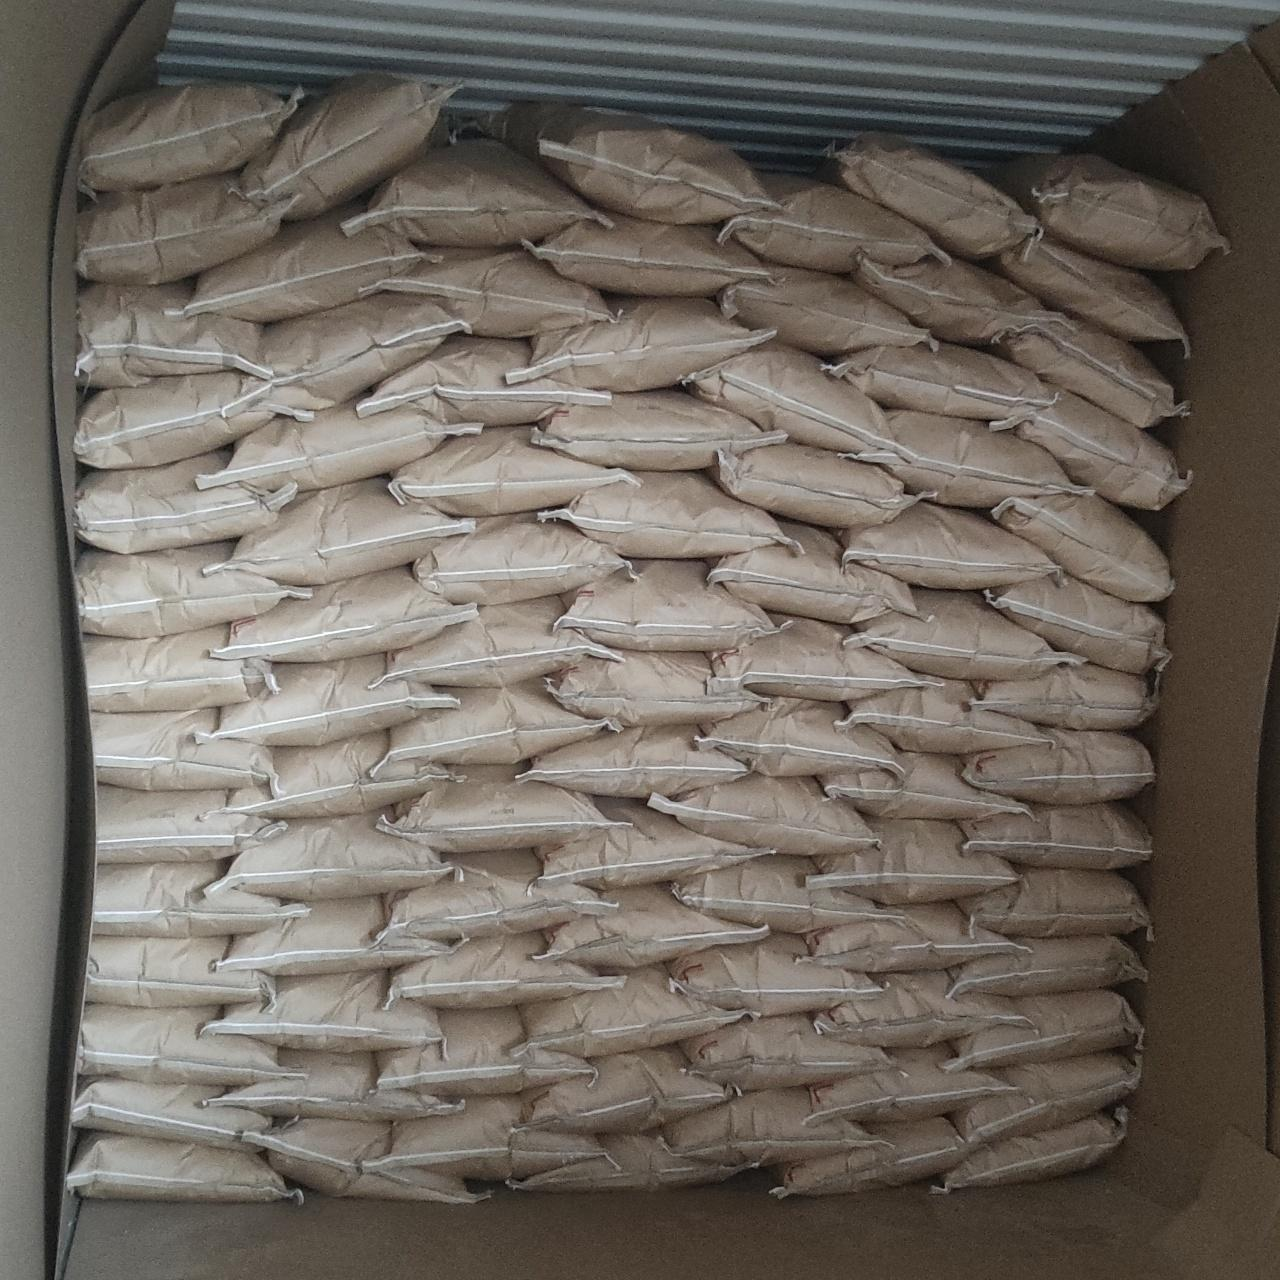sack: (488, 106, 774, 222), (240, 76, 452, 220), (226, 296, 468, 414), (176, 208, 430, 320), (208, 478, 474, 582), (990, 154, 1226, 270), (346, 140, 602, 246), (818, 136, 1036, 258), (200, 402, 482, 492), (508, 298, 772, 390), (216, 568, 476, 660), (992, 390, 1190, 510), (78, 82, 298, 190), (684, 342, 896, 454), (74, 371, 313, 468), (850, 410, 1086, 506), (994, 234, 1186, 352), (78, 174, 280, 284), (202, 654, 454, 742), (76, 542, 308, 636), (360, 336, 612, 422), (392, 426, 638, 514), (72, 452, 292, 550), (378, 680, 612, 772), (384, 596, 618, 686), (710, 522, 920, 622), (210, 812, 448, 900), (548, 472, 790, 558), (370, 248, 612, 334), (224, 730, 460, 818), (720, 176, 940, 270), (538, 798, 772, 886), (848, 588, 1074, 678), (516, 966, 746, 1054), (534, 390, 786, 470), (384, 850, 608, 940), (78, 282, 270, 386), (996, 318, 1184, 424), (252, 1118, 486, 1202), (374, 1096, 600, 1182), (524, 216, 772, 294), (378, 766, 602, 852), (416, 514, 630, 604), (720, 266, 932, 356), (562, 560, 774, 648), (992, 494, 1170, 598), (848, 256, 1062, 342), (842, 504, 1060, 588), (382, 932, 622, 1008), (378, 1008, 590, 1094), (520, 1048, 736, 1132), (650, 774, 876, 854), (712, 616, 926, 700), (542, 886, 766, 966), (220, 896, 448, 974), (206, 970, 438, 1046), (826, 344, 1058, 420), (808, 818, 1014, 902), (76, 1004, 290, 1084), (212, 1050, 462, 1118), (986, 576, 1166, 670), (712, 444, 918, 526), (674, 856, 894, 932), (802, 1046, 1016, 1124), (954, 1052, 1138, 1142), (670, 934, 876, 1014), (518, 726, 750, 796), (84, 626, 276, 710), (548, 652, 764, 726), (90, 860, 306, 934), (664, 1088, 868, 1166), (770, 1118, 974, 1196), (814, 972, 1028, 1046), (72, 1132, 302, 1200), (800, 902, 1026, 970), (698, 698, 898, 774), (934, 1110, 1124, 1190), (92, 708, 272, 790), (92, 786, 284, 862), (838, 680, 1046, 750), (684, 1014, 886, 1086), (948, 990, 1142, 1064), (72, 1078, 270, 1150), (510, 1132, 752, 1190), (822, 752, 1028, 818), (962, 728, 1154, 798), (960, 866, 1150, 936), (86, 936, 274, 1006), (962, 802, 1150, 868), (946, 936, 1146, 996), (972, 662, 1156, 726)
